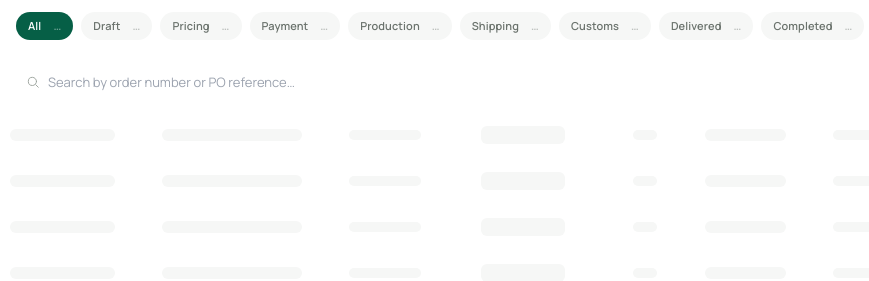
Test case: OrdersClient › renders the filtered empty state + Clear Filters when filters hide every row
Step 1. Click the tab "Draft …" → (117, 26), box [81,12,152,40]
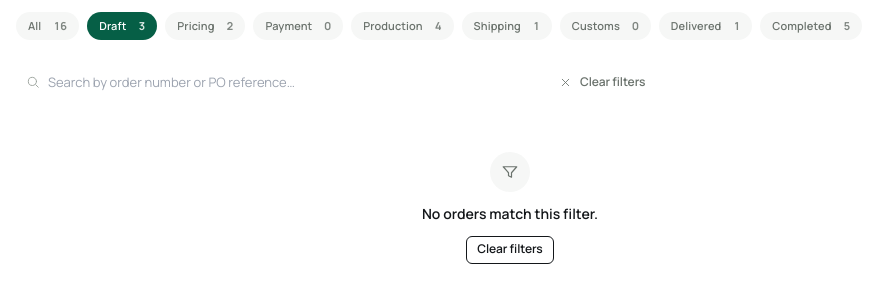
Check: the text "No orders match this filter." is shown, box [422,204,598,224]
